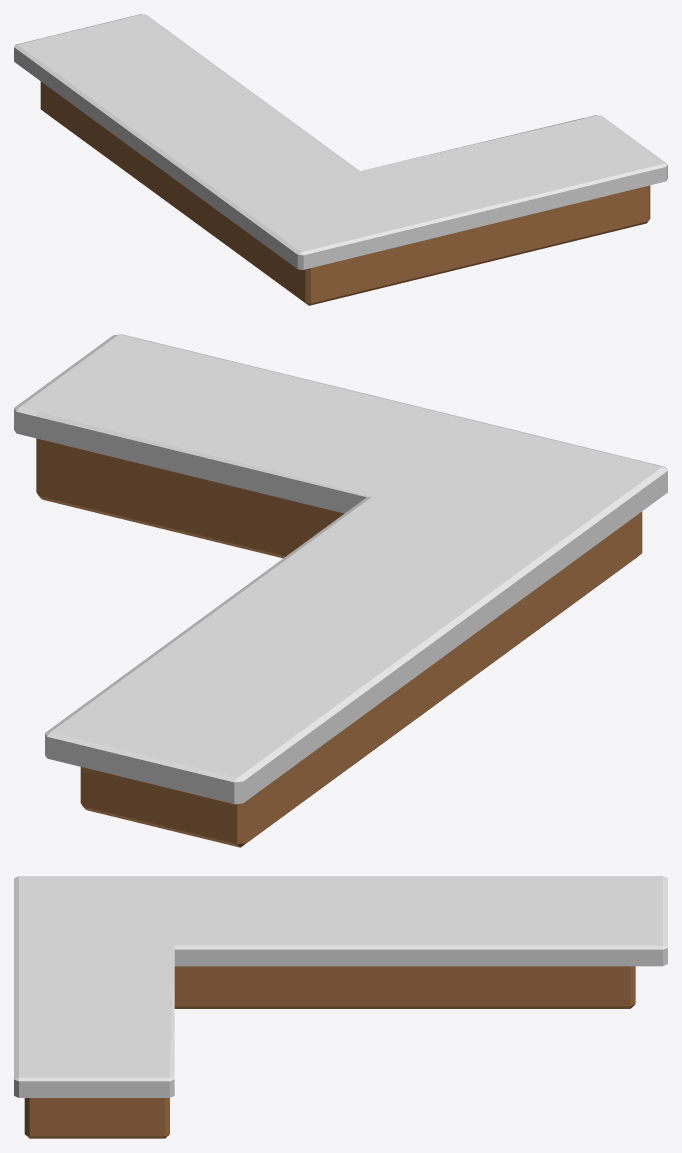
File: counter.fbx
3 renders of one model, top to bottom at view 1: azimuth 30°, elevation 25°; view 2: azimuth 150°, elevation 25°; view 3: azimuth 270°, elevation 25°, orthographic. The views are drawn at different scales.
Parts seen in each view (by area): view 1: Cube.001, Cube; view 2: Cube.001, Cube; view 3: Cube.001, Cube.
Boxes of the visible parts, <box> form: Cube.001: <box>14,14,667,269</box>; Cube: <box>40,81,650,305</box>; Cube.001: <box>14,334,667,804</box>; Cube: <box>36,438,642,847</box>; Cube.001: <box>14,876,667,1097</box>; Cube: <box>24,966,635,1138</box>.
Bounding box in the file's own units: 670 × 104 × 902.
